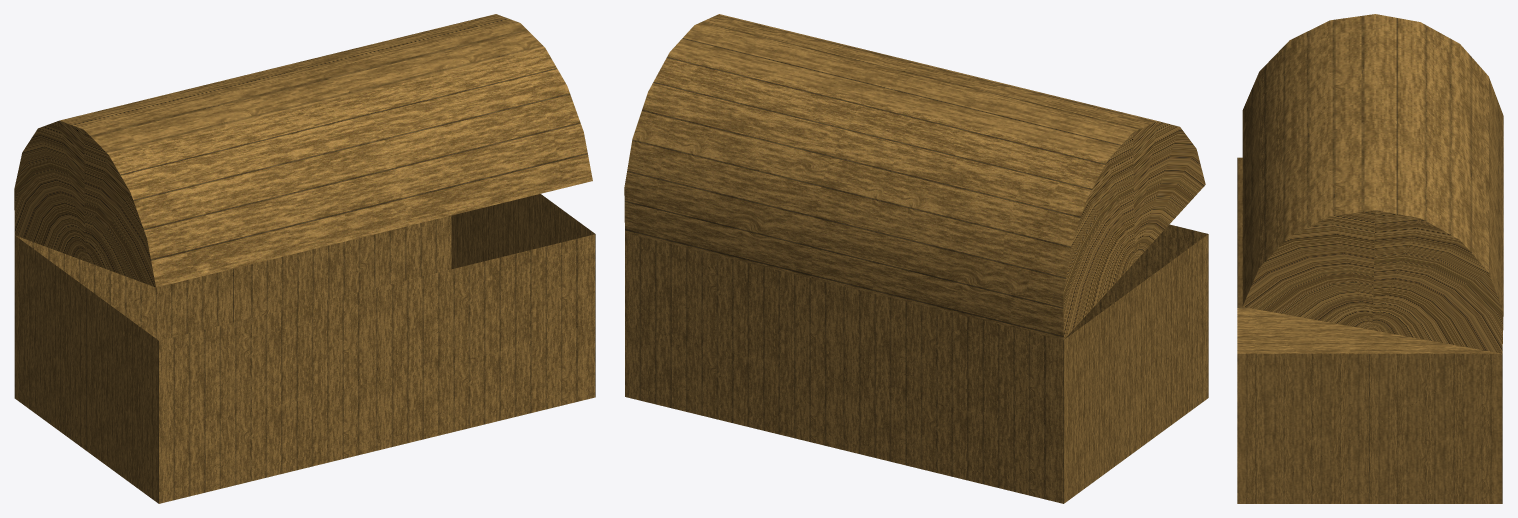
Rendered from chest 1.FBX.
The picture shows the model from 3 angles, left to right: view 1: azimuth 30°, elevation 25°; view 2: azimuth 150°, elevation 25°; view 3: azimuth 270°, elevation 25°; orthographic projection. The views are drawn at different scales.
Visible parts, largest first — view 1: Box001, Cylinder001; view 2: Cylinder001, Box001; view 3: Cylinder001, Box001.
Part boxes in pixels (x1,y1,x2,y2): Box001: [14, 194, 595, 503]; Cylinder001: [14, 14, 592, 287]; Cylinder001: [624, 14, 1205, 339]; Box001: [625, 224, 1208, 503]; Cylinder001: [1242, 14, 1503, 353]; Box001: [1237, 157, 1502, 503].
Bounding box in the file's own units: 70 × 48.9 × 40.15.
1 material, 1 textured.
